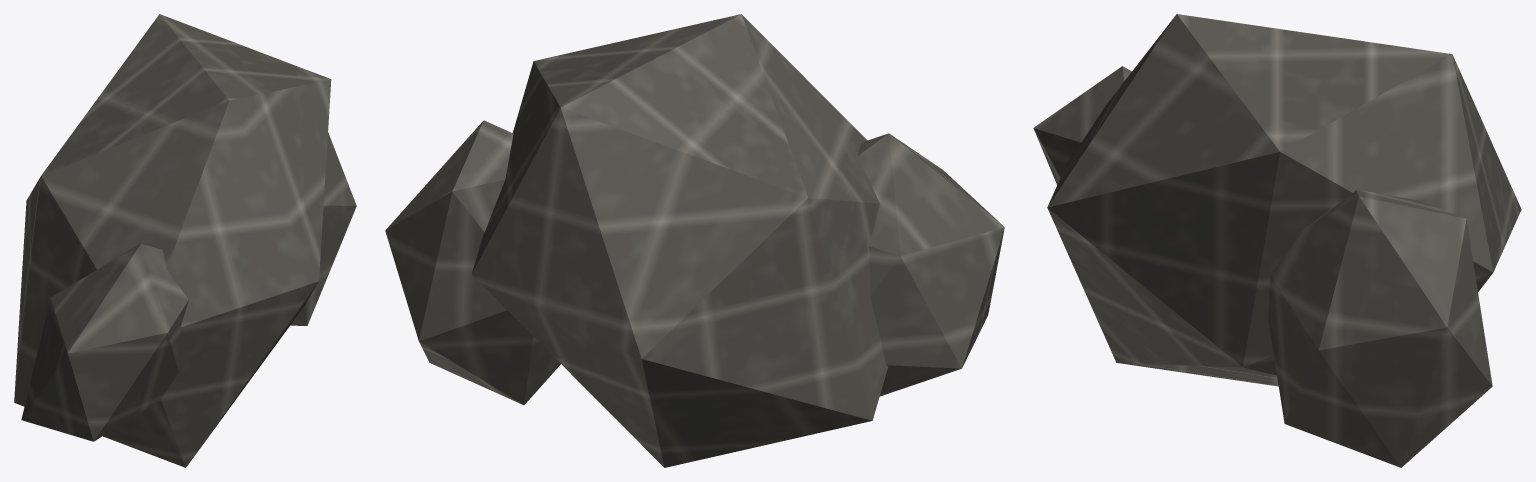
Rendered from rock.glb.
The picture shows the model from 3 angles, left to right: view 1: azimuth 30°, elevation 25°; view 2: azimuth 150°, elevation 25°; view 3: azimuth 270°, elevation 25°; orthographic projection. The views are drawn at different scales.
Visible parts, largest first — view 1: Rock; view 2: Rock; view 3: Rock.
Part boxes in pixels (x1,y1,x2,y2): Rock: (14,14,356,467); Rock: (385,14,1004,467); Rock: (1033,14,1521,467).
Size of the model in its own units: 0.9862 by 0.7774 by 0.8573.
Materials: 2 (2 with a texture image).
